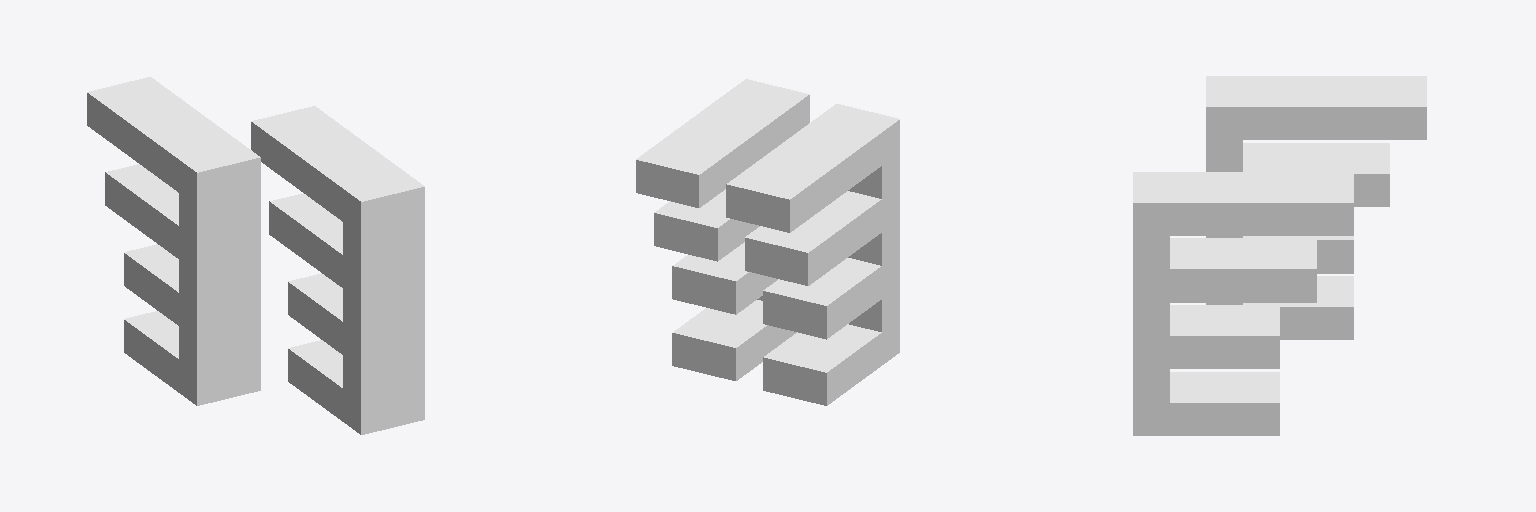
Rendered from Extra-10-UVintruder_Fire1_L.obj.
The picture shows the model from 3 angles: view 1: azimuth 30°, elevation 25°; view 2: azimuth 150°, elevation 25°; view 3: azimuth 270°, elevation 25°; orthographic projection.
Visible parts, largest first — view 1: UVintruder_Fire1_L; view 2: UVintruder_Fire1_L; view 3: UVintruder_Fire1_L.
Part boxes in pixels (left/top/right/bottom): UVintruder_Fire1_L: left=87, top=77, right=424, bottom=434; UVintruder_Fire1_L: left=636, top=79, right=899, bottom=405; UVintruder_Fire1_L: left=1133, top=76, right=1426, bottom=435.
Bounding box in the file's own units: 0.6 × 0.8 × 0.8.